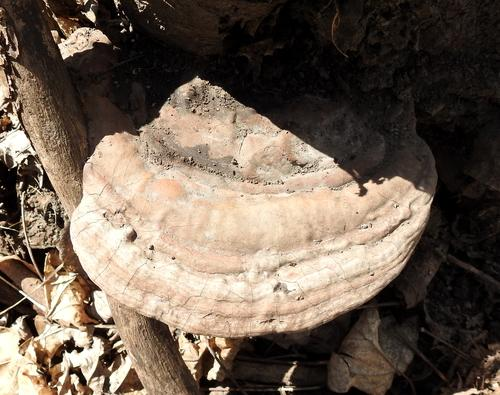Ganoderma - Fruit Body: (67, 25, 440, 337)
